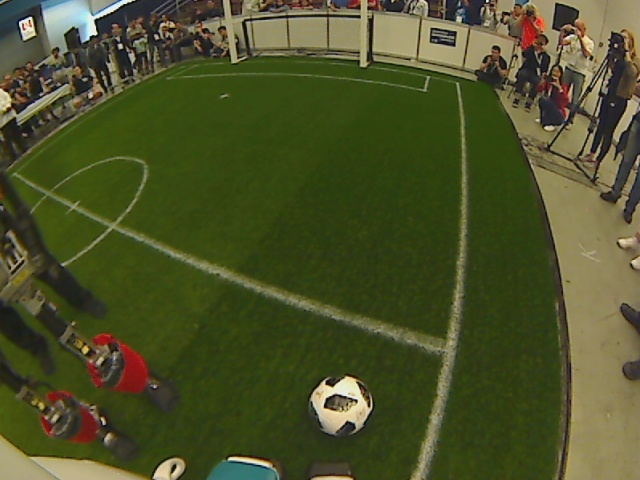ball: (305, 370, 375, 442)
